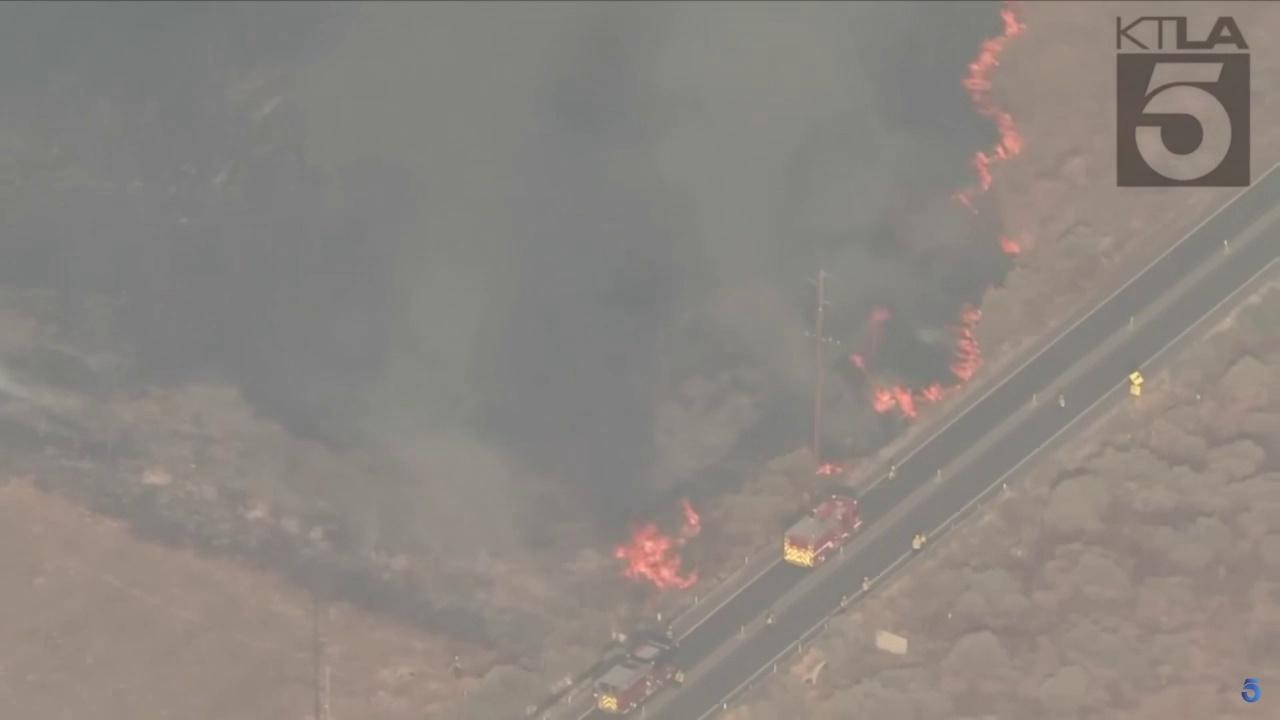fire: (956, 8, 1028, 195), (612, 496, 703, 596), (946, 304, 985, 382), (871, 380, 918, 421), (921, 382, 964, 406), (812, 462, 846, 476), (1000, 234, 1022, 255), (851, 351, 867, 370)
smoke: (0, 0, 1010, 569)
